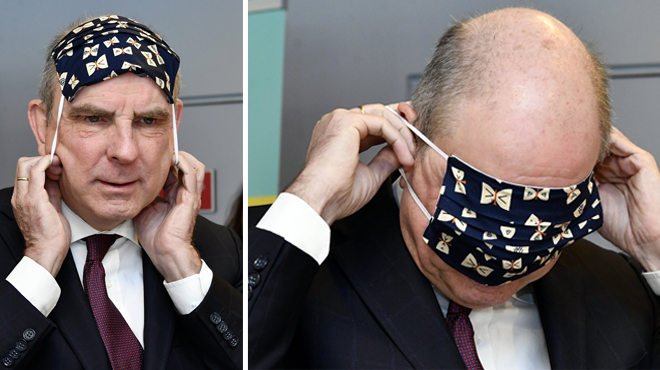with_incorrect_mask: (50, 27, 171, 212), (455, 111, 566, 293)
